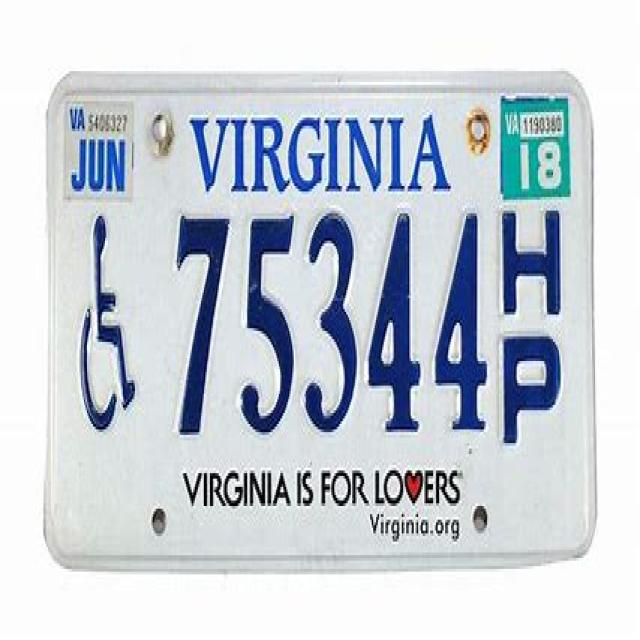car-handicap-placard: (77, 210, 138, 438)
